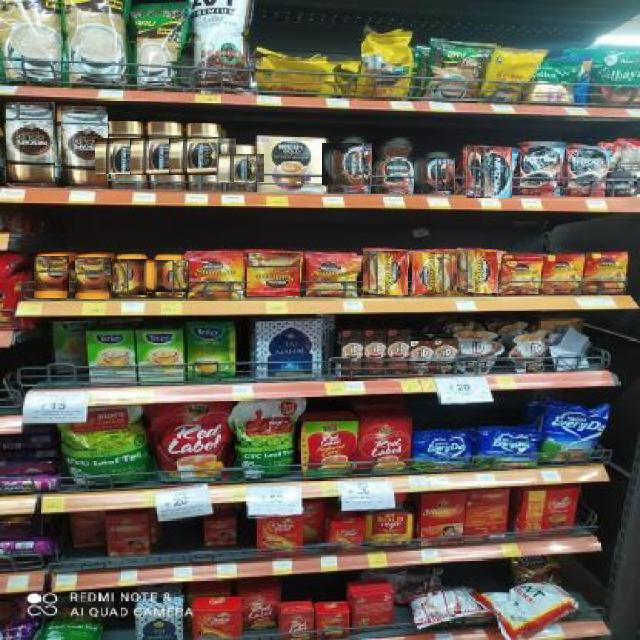Coffee: (5, 102, 55, 183), (60, 105, 108, 186), (373, 135, 417, 194), (131, 137, 199, 175), (188, 253, 242, 299), (169, 138, 236, 175), (322, 143, 380, 185), (465, 147, 512, 198), (246, 252, 300, 296), (96, 138, 161, 174), (308, 254, 358, 298), (520, 144, 561, 196), (566, 147, 606, 198), (362, 251, 408, 295), (454, 251, 498, 293), (412, 252, 456, 294), (74, 256, 111, 299), (34, 255, 69, 298), (111, 260, 152, 295), (415, 157, 455, 191), (146, 260, 188, 292), (218, 154, 264, 182), (608, 173, 633, 197)
